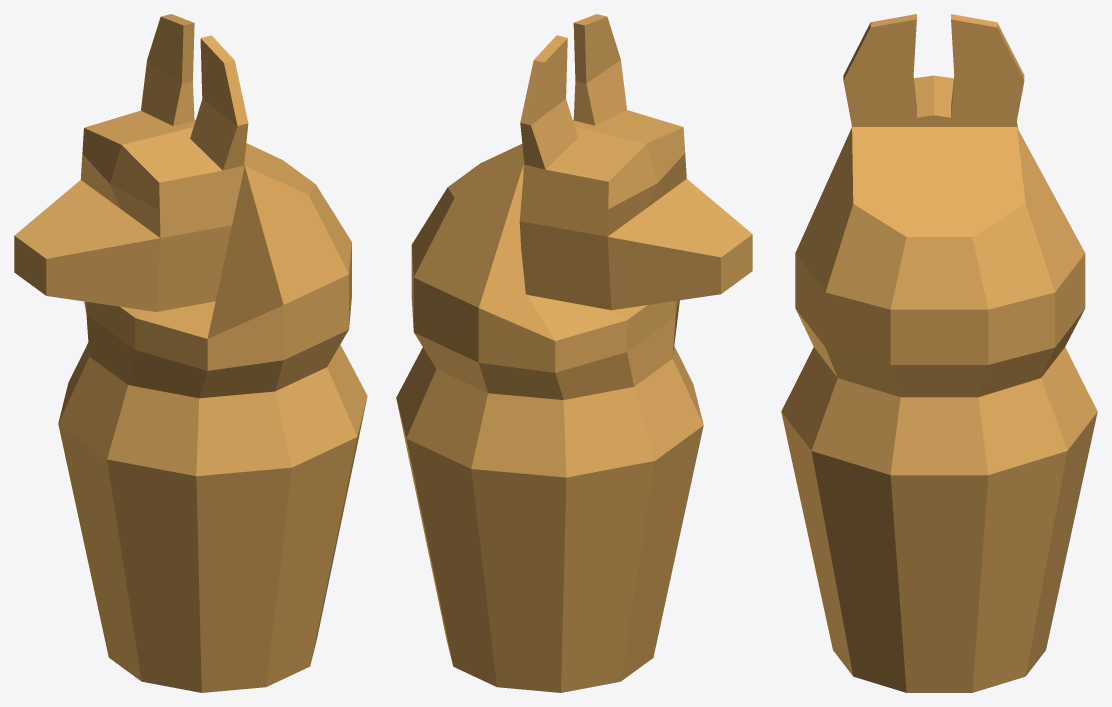
The model's file is Vasija3.fbx.
3 renders of one model, left to right at view 1: azimuth 30°, elevation 25°; view 2: azimuth 150°, elevation 25°; view 3: azimuth 270°, elevation 25°, orthographic.
Parts seen in each view (by area): view 1: Vasija, CaraPerro; view 2: Vasija, CaraPerro; view 3: Vasija, CaraPerro.
Part boxes in pixels (x1,y1,x2,y2): Vasija: (58,120,367,692); CaraPerro: (14,14,248,311); Vasija: (396,120,703,692); CaraPerro: (519,14,752,310); Vasija: (781,127,1097,692); CaraPerro: (843,14,1024,128).
Size of the model in its own units: 46.09 by 87.1 by 40.
